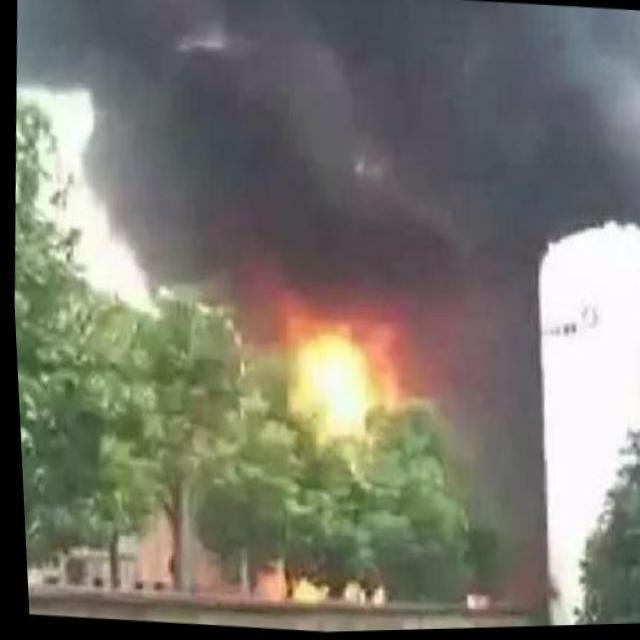fire: (286, 321, 370, 435)
smoke: (90, 0, 628, 300)
